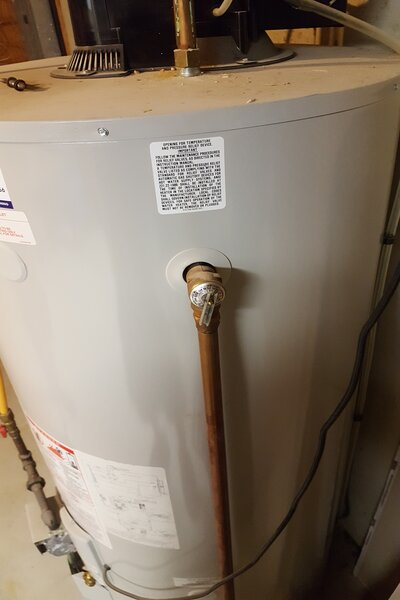valve: (181, 262, 228, 335)
